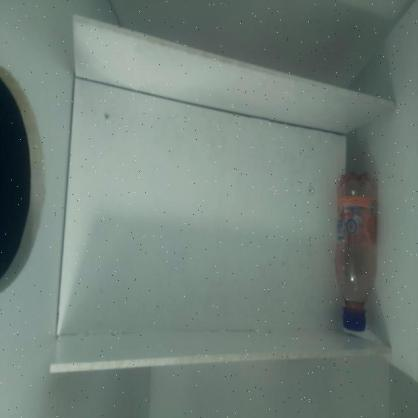bottle: (318, 156, 391, 344)
cap: (340, 306, 368, 332)
label: (332, 192, 375, 246)
